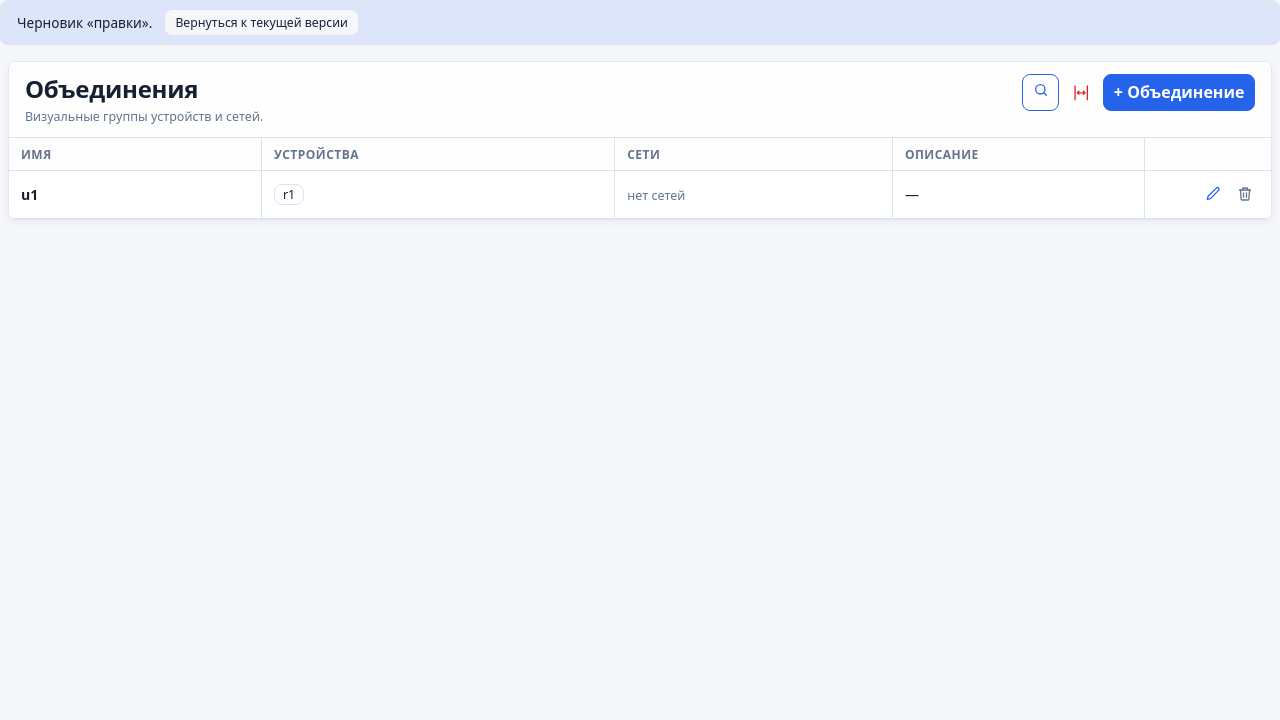
Test: UnionsPage › creates a union with empty members
This screenshot has width=1280, height=720.
Expected: the text "u1" is shown, [9,170,261,218]
Click the button titled "Добавить объединение": point(1179, 92) [1103,74,1255,111]
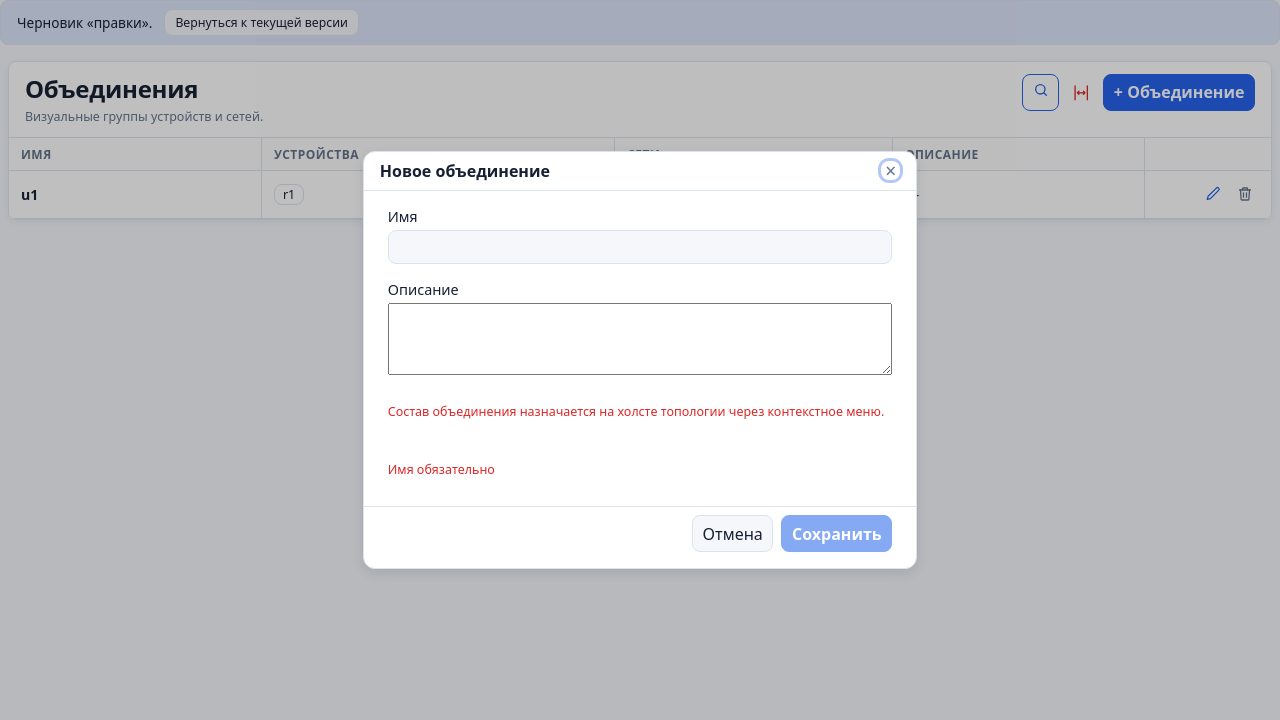
In the field labelled "Имя": point(640, 247) [388,230,892,264], type "u2"
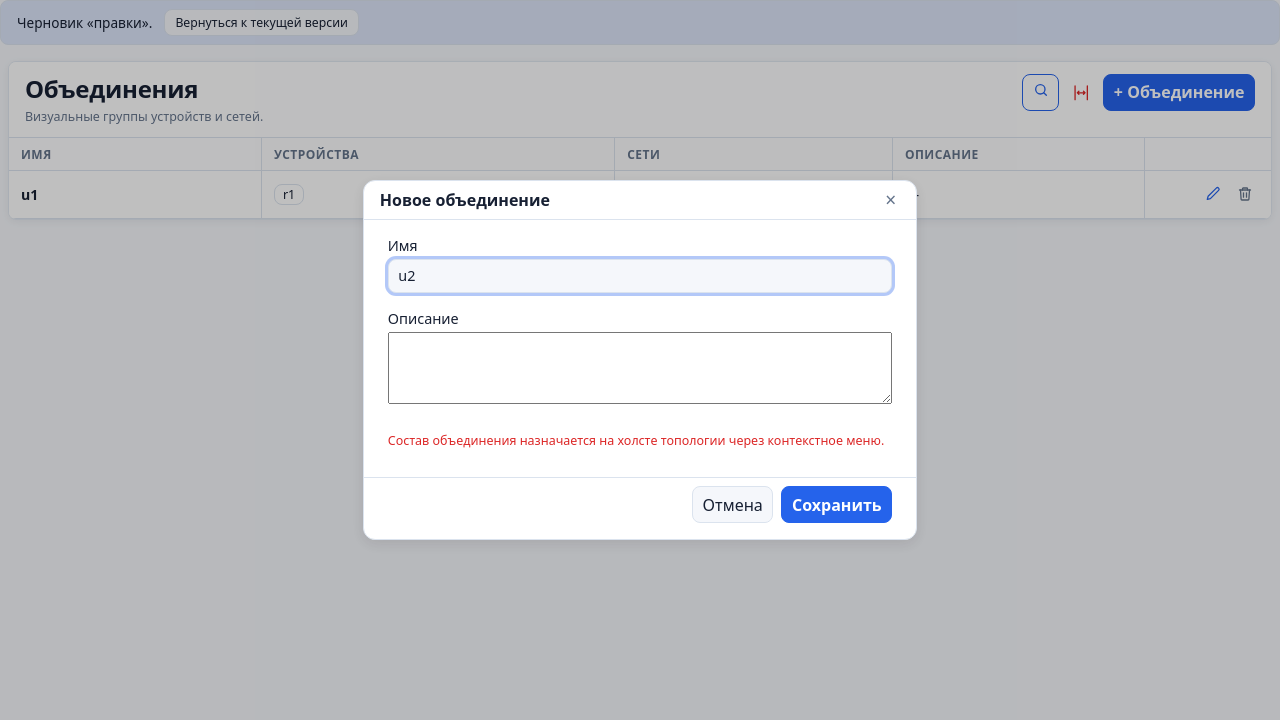
Click the button "Сохранить": point(837, 505) [781,486,892,523]
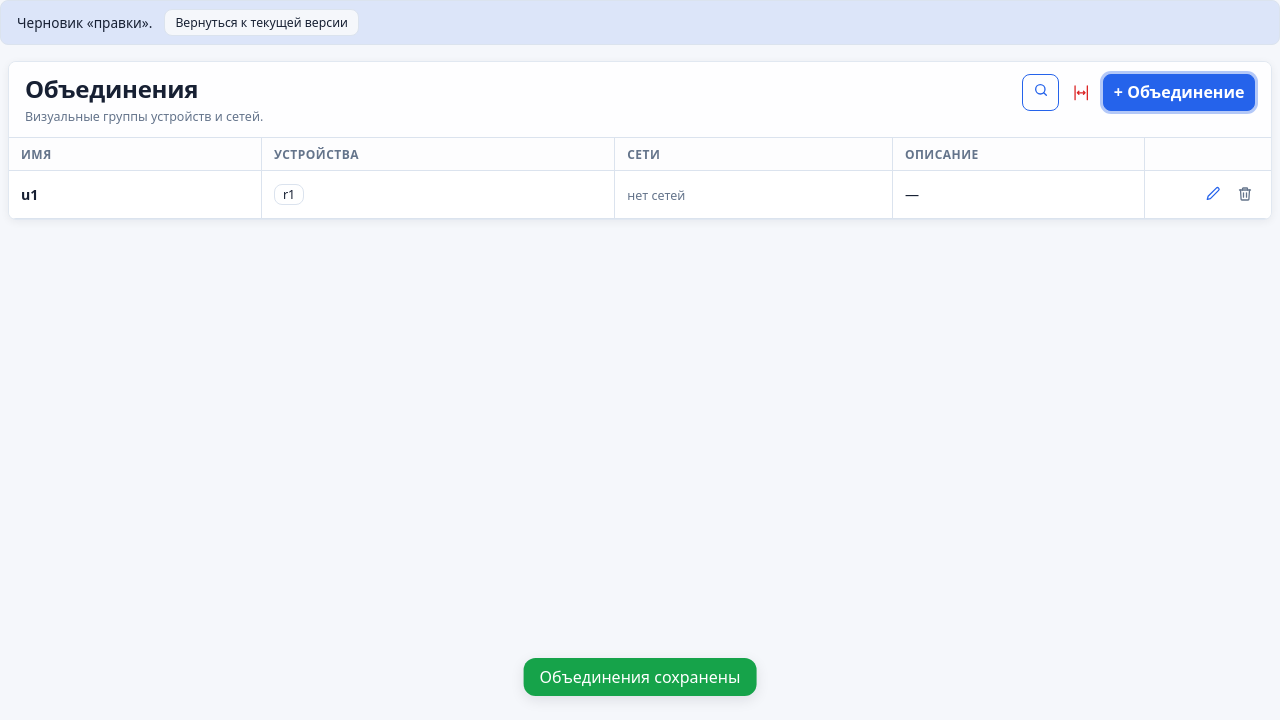
Result: the text "Объединения сохранены" is shown at [524,658,756,696]
